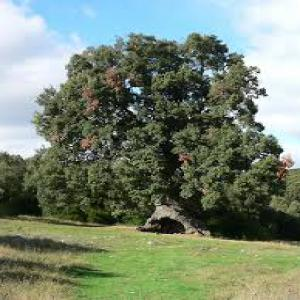Tree: (28, 27, 286, 235)
